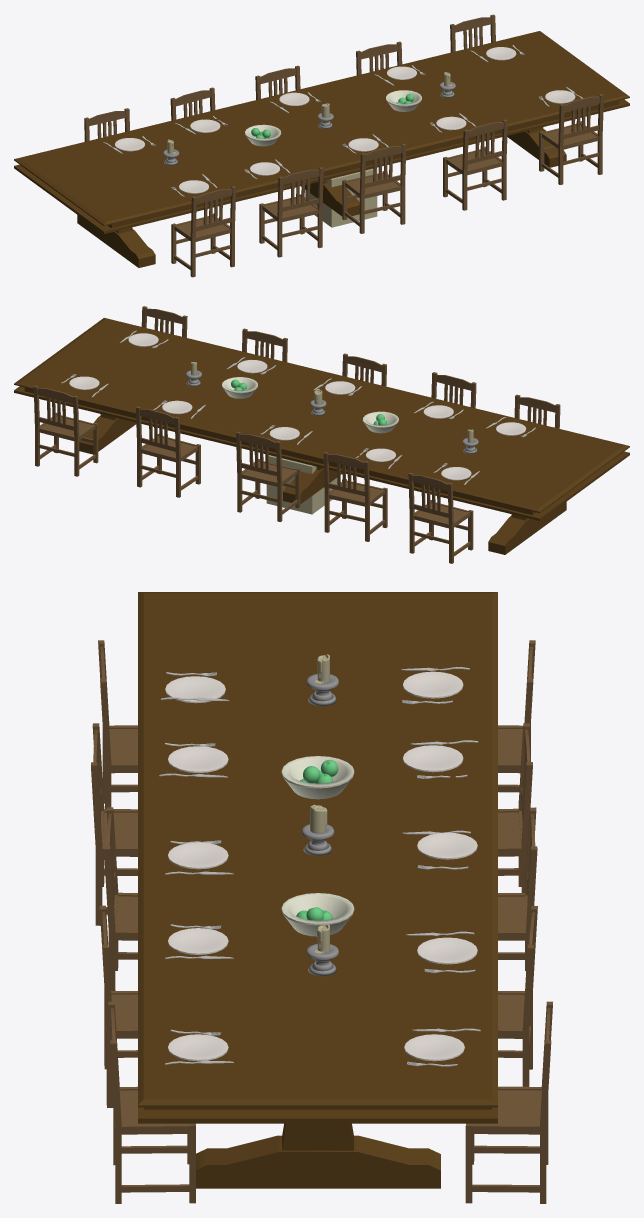
The model's file is table and chairs.fbx.
3 renders of one model, top to bottom at view 1: azimuth 30°, elevation 25°; view 2: azimuth 150°, elevation 25°; view 3: azimuth 270°, elevation 25°, orthographic. The views are drawn at different scales.
Parts seen in each view (by area): view 1: pCylinder40; view 2: pCylinder40; view 3: pCylinder40.
Part boxes in pixels (x1,y1,x2,y2): pCylinder40: (14,14,629,277); pCylinder40: (14,306,629,563); pCylinder40: (91,592,552,1203).
Size of the model in its own units: 11.53 by 2.36 by 4.39.
